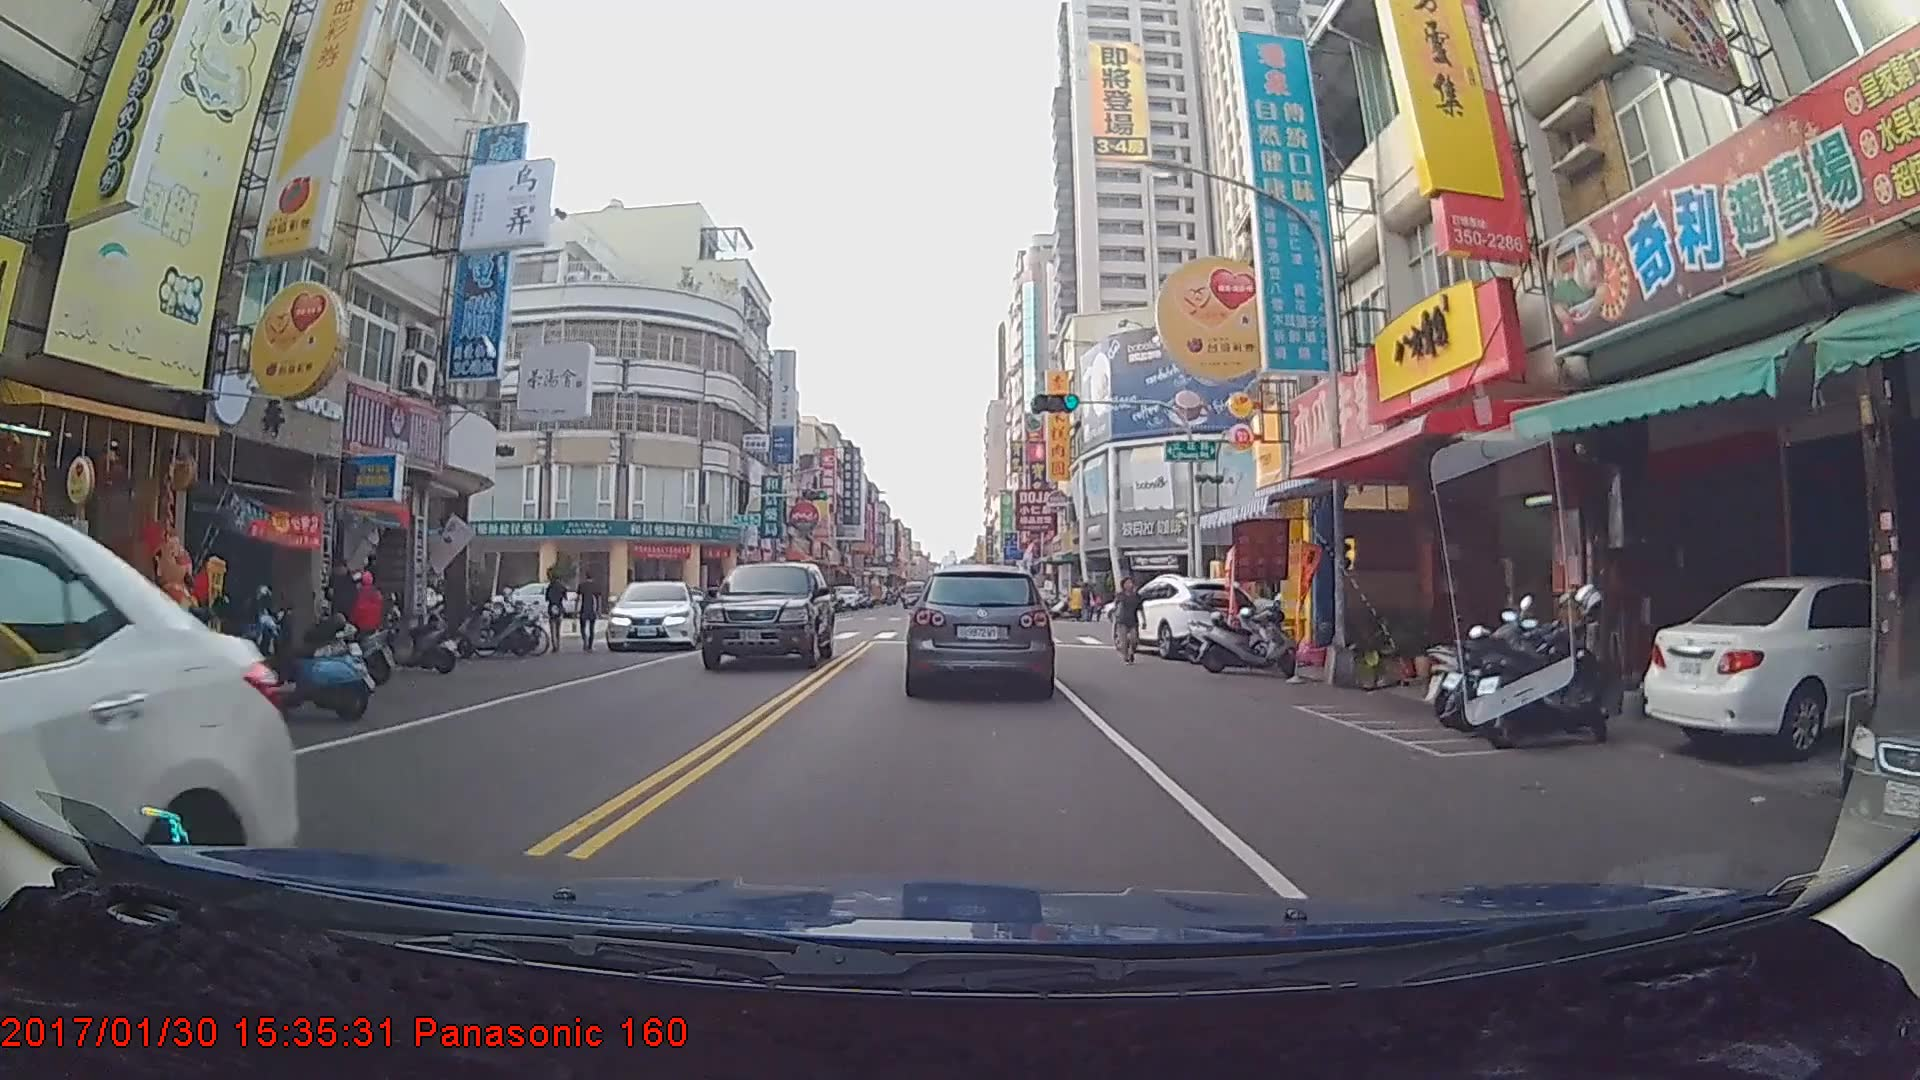pedestrian: (322, 552, 367, 657), (1110, 578, 1146, 663), (575, 569, 604, 648), (543, 572, 569, 655)
rider: (303, 564, 403, 692)
vehicle: (0, 495, 284, 1022), (1637, 572, 1920, 765), (908, 564, 1053, 697), (701, 558, 835, 670), (1106, 573, 1262, 658), (606, 576, 701, 650), (902, 577, 929, 606)
